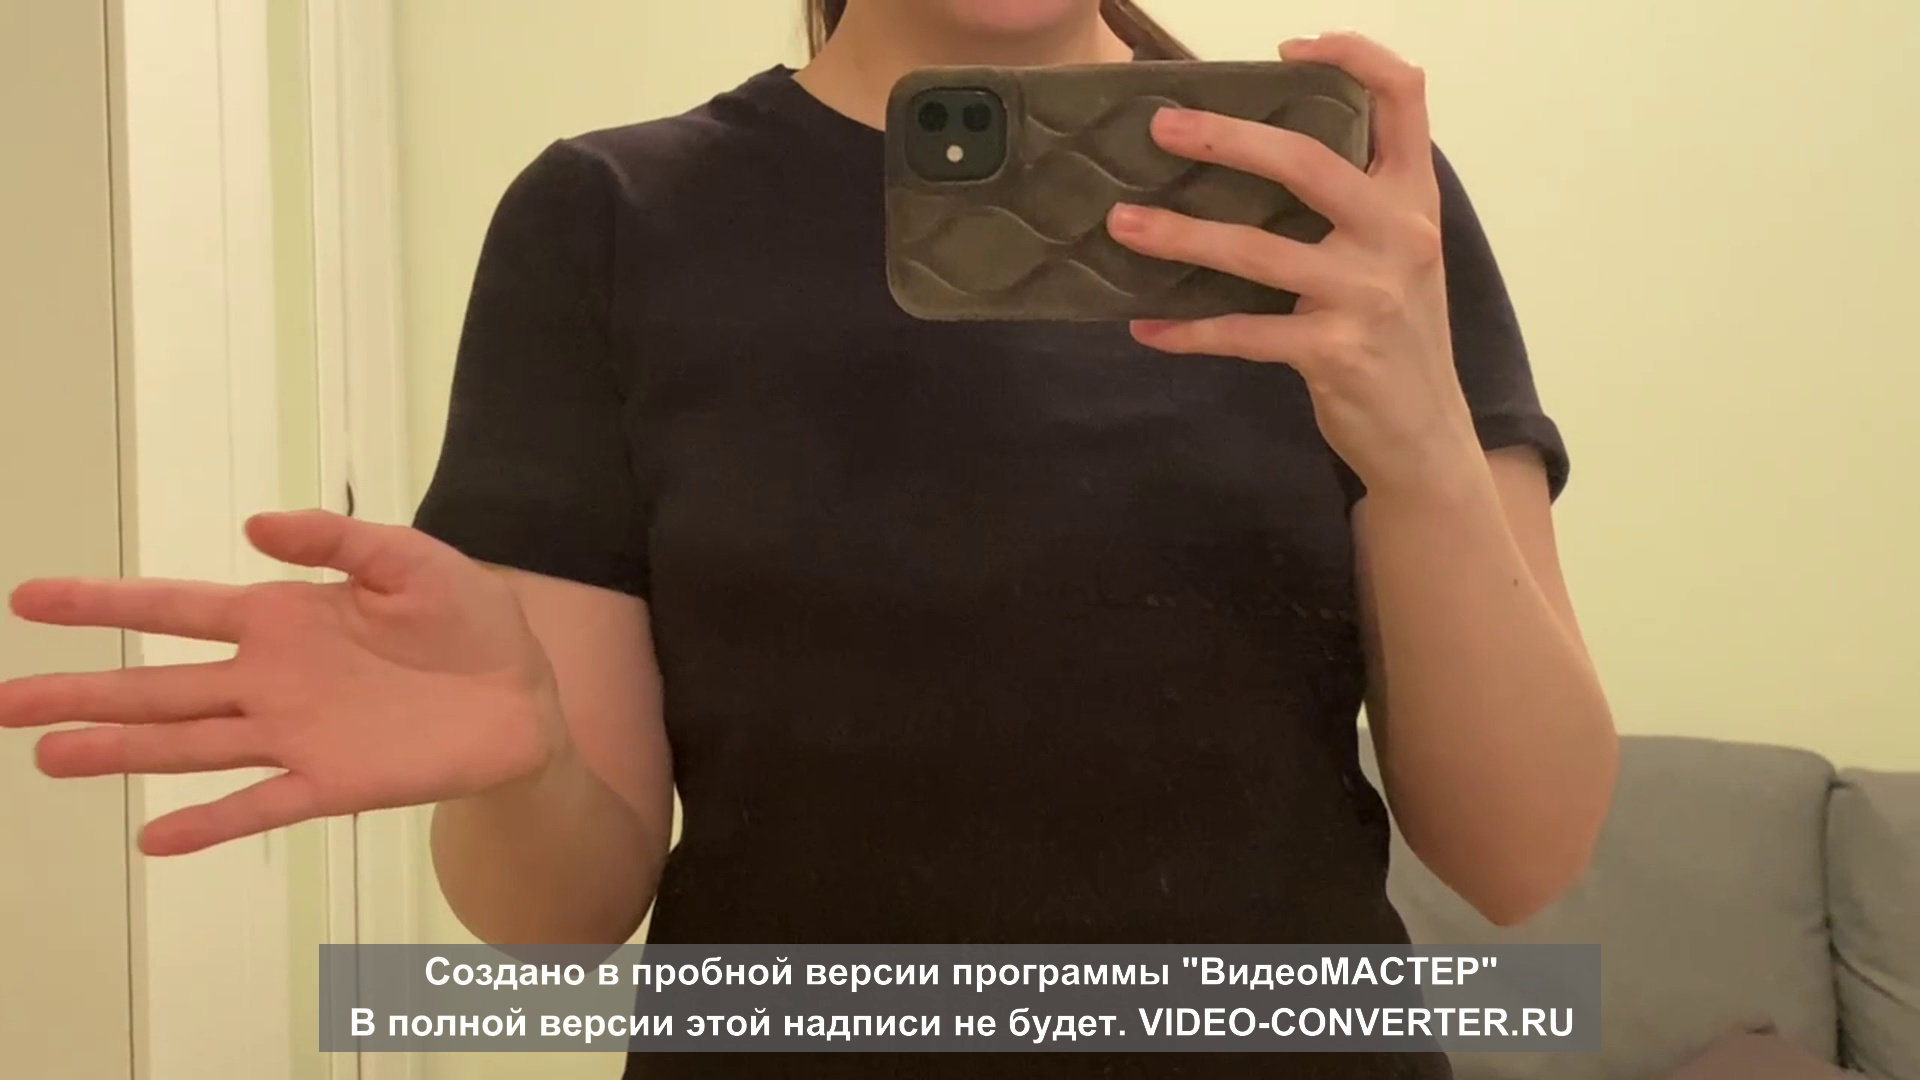Ладонь: (0, 508, 551, 860)
